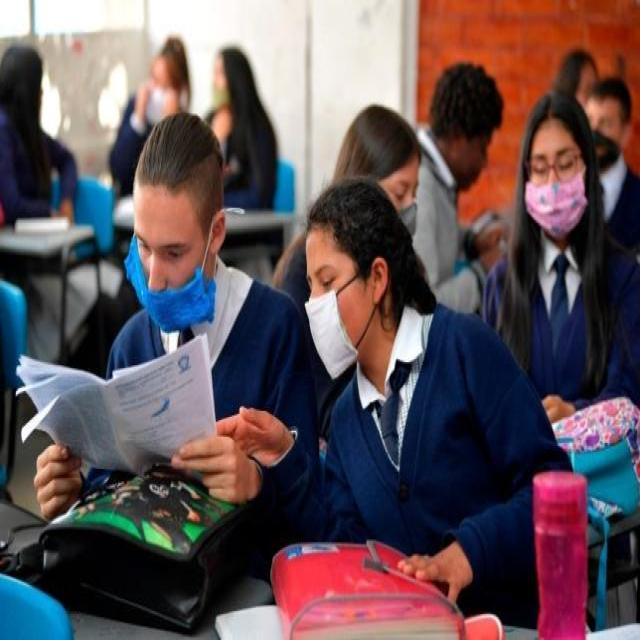bare_hand: (157, 419, 267, 512), (393, 536, 476, 613), (30, 432, 85, 515), (215, 403, 290, 461), (534, 376, 580, 441)
